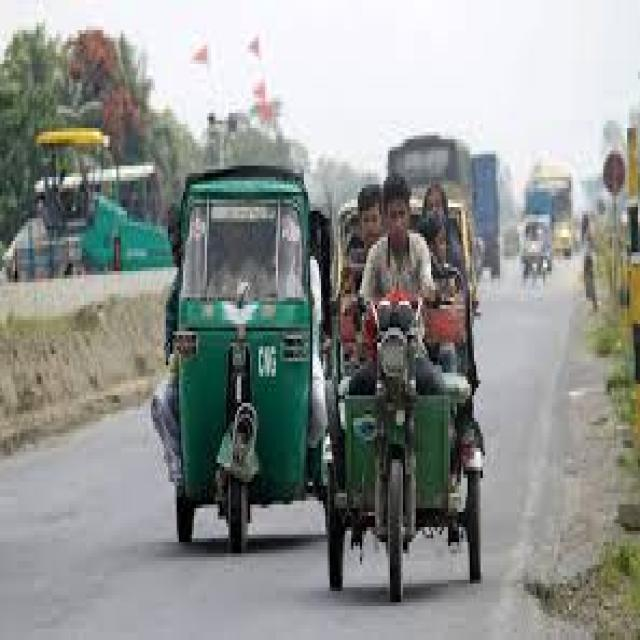person: (349, 173, 442, 392), (151, 203, 192, 538), (343, 184, 379, 294), (420, 181, 459, 267), (308, 256, 325, 448)
three wheeler: (172, 166, 336, 550), (325, 267, 483, 599)
